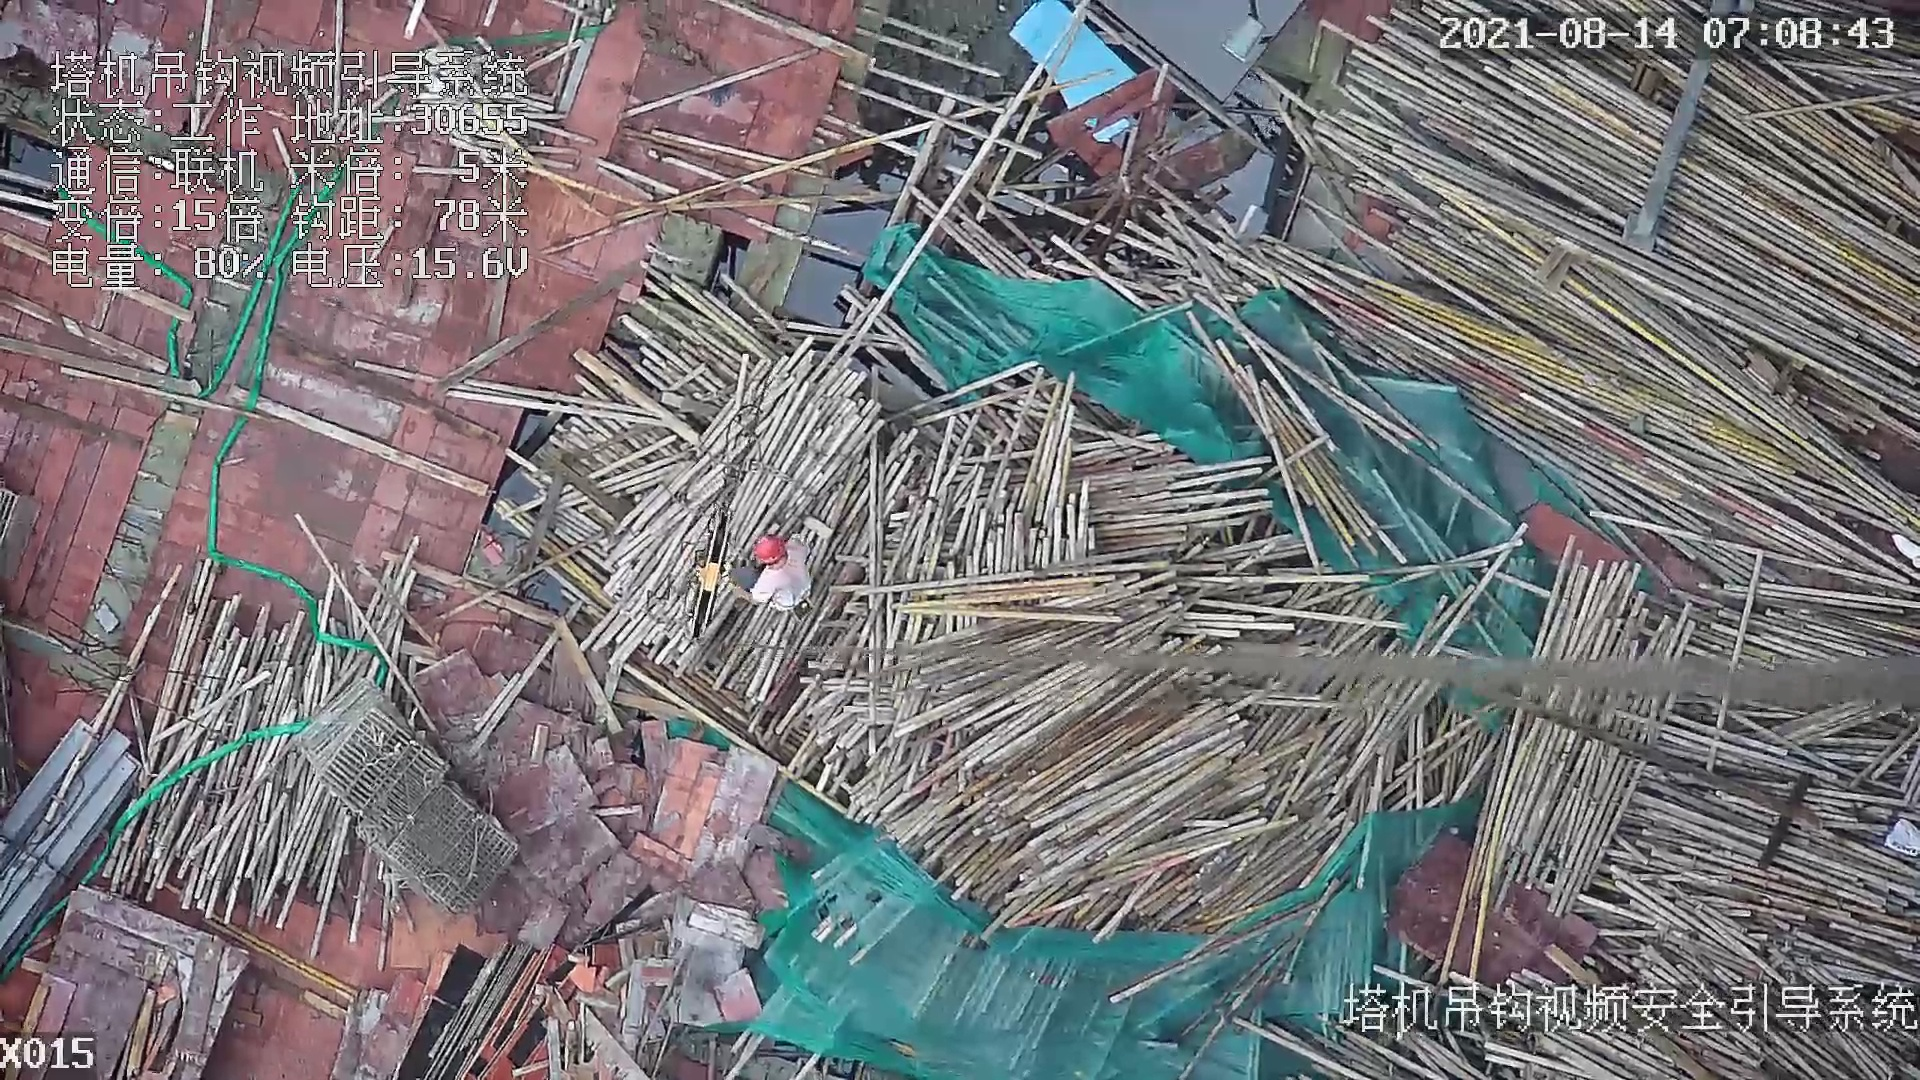helmet: (752, 535, 786, 564)
hook: (678, 503, 738, 639)
person: (745, 527, 815, 613)
